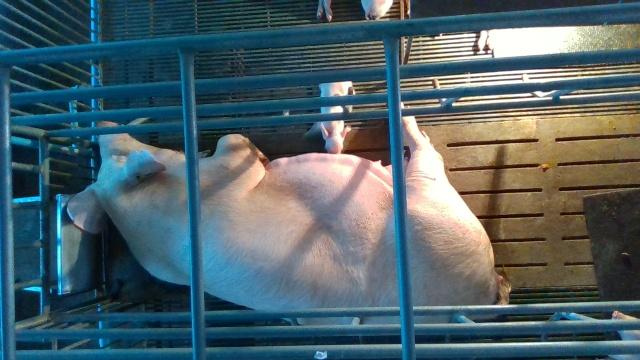piglet: (320, 82, 355, 153)
sow-sit: (65, 103, 511, 324)
